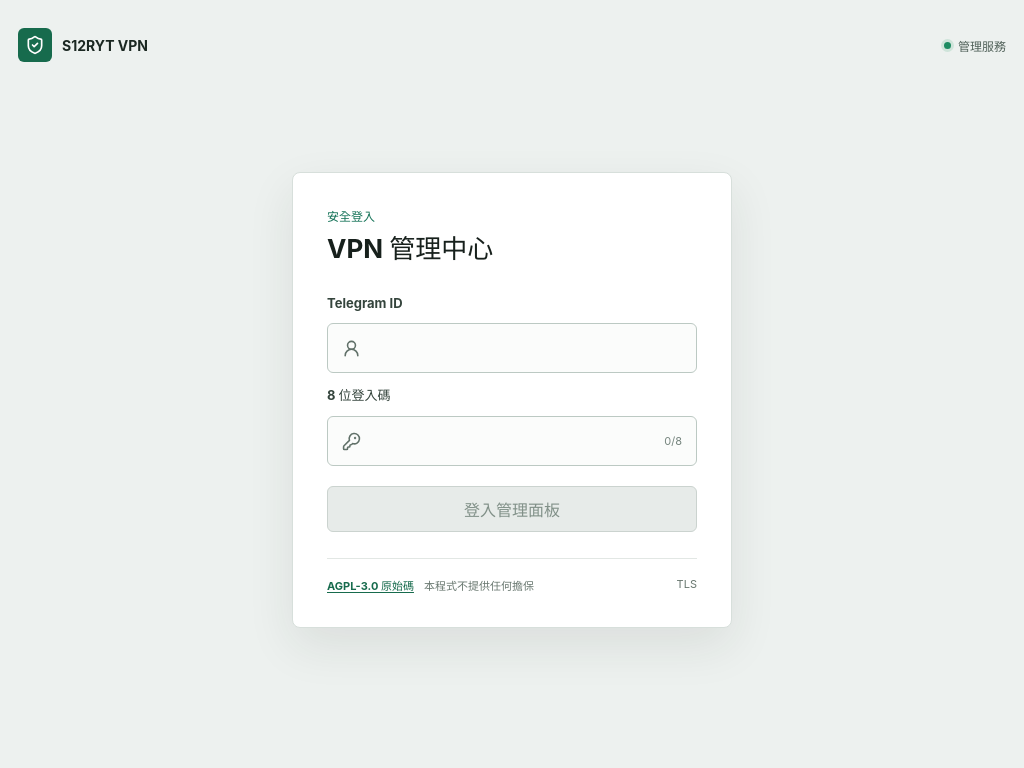
管理面板登入 › 要求管理者輸入 Telegram ID 與 Bot 私訊提供的 8 位登入碼
Expected: the heading "VPN 管理中心" is shown, [327,233,493,264]
Expected: the button "登入管理面板" is disabled, [327,486,697,532]
Type "12a345" into the field labelled "Telegram ID".
click(527, 348); type("12a345")  # box [372,325,682,371]
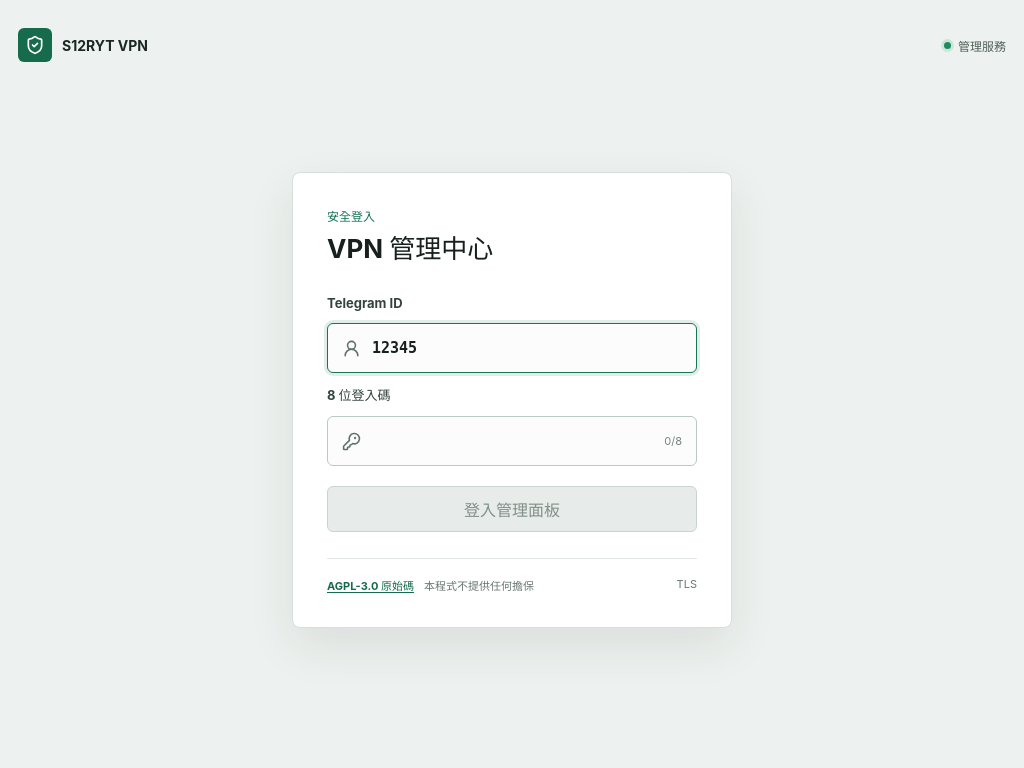
Type "Ab12!cd345" into the field labelled "8 位登入碼".
click(513, 441); type("Ab12!cd345")  # box [372,418,654,464]
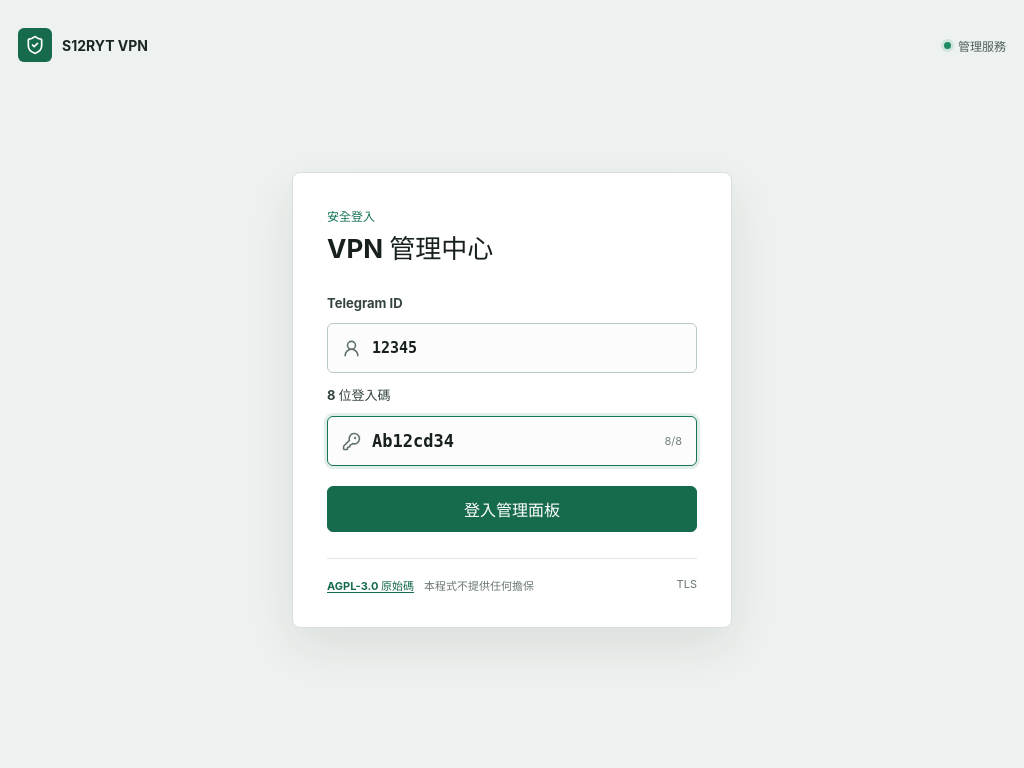
Expected: the field labelled "Telegram ID" holds "12345", [372,325,682,371]
Expected: the field labelled "8 位登入碼" holds "Ab12cd34", [372,418,654,464]
Expected: the button "登入管理面板" is enabled, [327,486,697,532]
